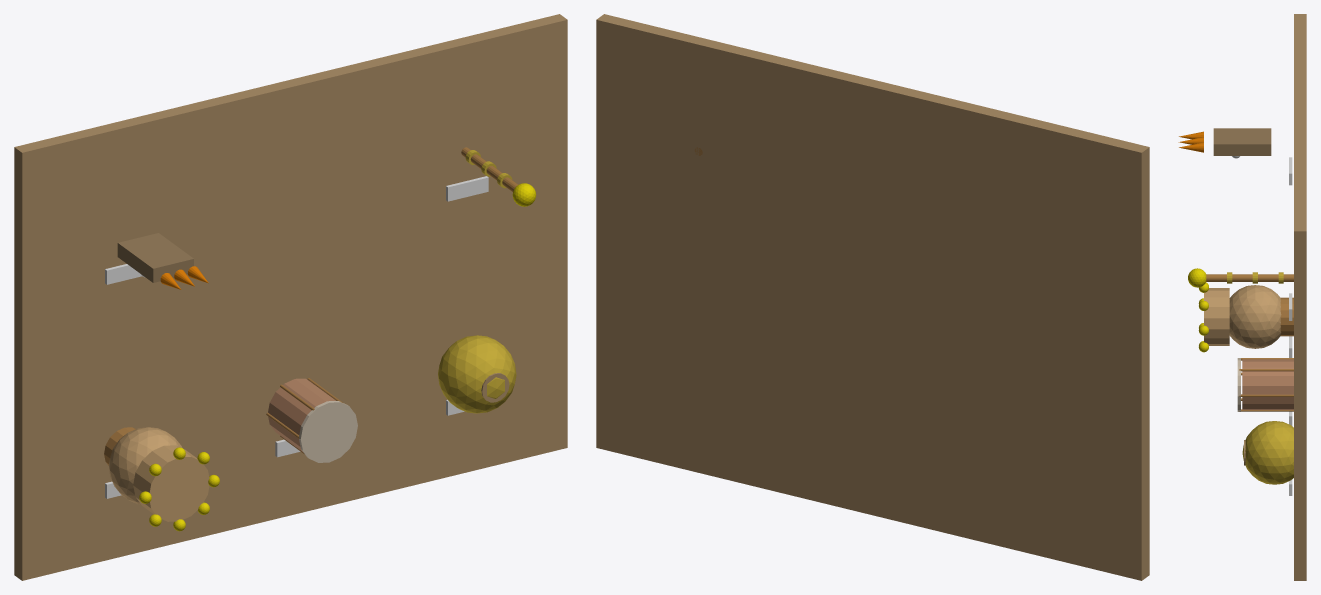
The model's file is cultural_artifacts.glb.
3 views of the same model, side by side, from view 1: azimuth 30°, elevation 25°; view 2: azimuth 150°, elevation 25°; view 3: azimuth 270°, elevation 25° (orthographic). The views are drawn at different scales.
Visible parts, largest first — view 1: world; view 2: world; view 3: world.
Part boxes in pixels (<box>): world: <box>14,14,567,580</box>; world: <box>596,14,1149,580</box>; world: <box>1178,14,1306,580</box>.
Bounding box in the file's own units: 8 × 6 × 2.
